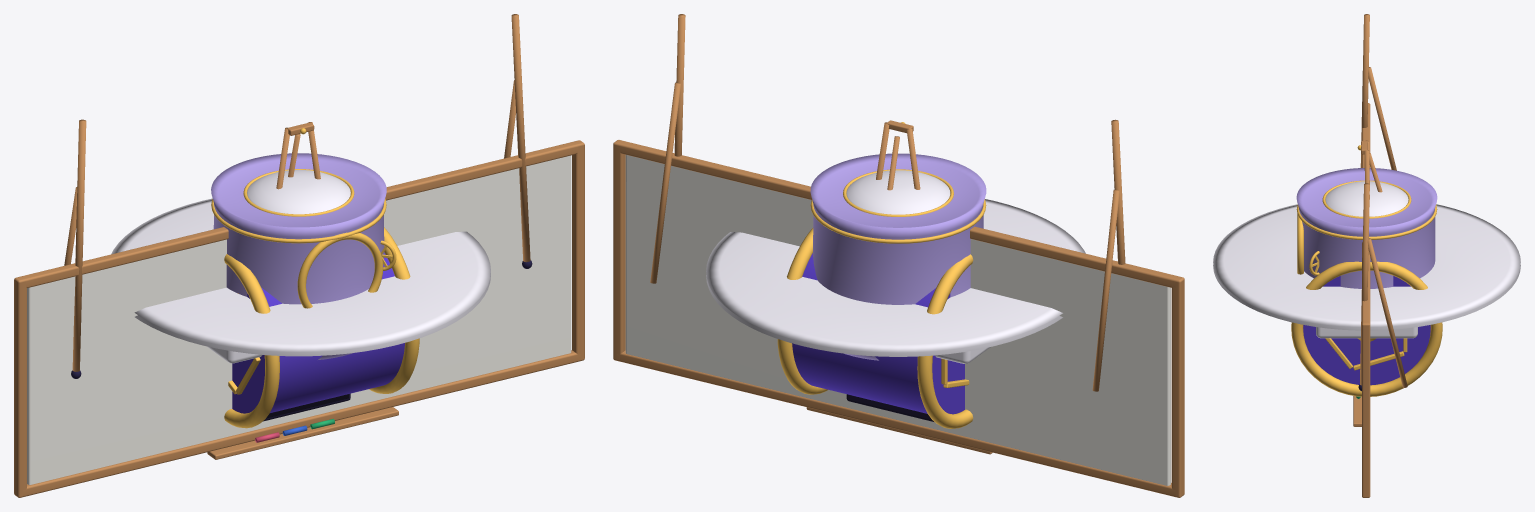
Rendered from props.glb.
3 views of the same model, side by side, from view 1: azimuth 30°, elevation 25°; view 2: azimuth 150°, elevation 25°; view 3: azimuth 270°, elevation 25° (orthographic). The views are drawn at different scales.
Parts seen in each view (by area): view 1: prop_board_face, prop_round_table_top, prop_vault_drum, drum_spin_body, prop_board_frame_b, prop_board_frame_t, prop_collector_cap, prop_board_frame_l, prop_board_frame_r, drum_spin_reel.001, prop_storyboard_legs_leg, prop_storyboard_legs_leg.001 (+5 smaller); view 2: prop_board_face, prop_round_table_top, prop_vault_drum, drum_spin_body, prop_board_frame_b, prop_board_frame_t, prop_collector_cap, prop_board_frame_l, prop_board_frame_r, drum_spin_reel.001, drum_spin_reel, prop_storyboard_legs_strut.001 (+5 smaller); view 3: prop_round_table_top, prop_vault_drum, drum_spin_body, drum_spin_reel, prop_collector_cap, prop_board_frame_r, prop_storyboard_legs_leg.001, prop_drum_base_plinth, prop_storyboard_legs_strut, prop_storyboard_legs_leg, prop_board_frame_t, prop_vault_band_hi (+3 smaller).
Boxes of the visible parts, x1=… form: prop_board_face: x1=27, y1=155, x2=571, y2=484; prop_round_table_top: x1=111, y1=198, x2=490, y2=356; prop_vault_drum: x1=211, y1=153, x2=386, y2=359; drum_spin_body: x1=232, y1=253, x2=404, y2=413; prop_board_frame_b: x1=23, y1=350, x2=580, y2=496; prop_board_frame_t: x1=19, y1=141, x2=580, y2=287; prop_collector_cap: x1=247, y1=170, x2=350, y2=214; prop_board_frame_l: x1=14, y1=277, x2=26, y2=497; prop_board_frame_r: x1=572, y1=140, x2=584, y2=360; drum_spin_reel.001: x1=224, y1=254, x2=279, y2=428; prop_storyboard_legs_leg: x1=72, y1=119, x2=86, y2=371; prop_storyboard_legs_leg.001: x1=511, y1=14, x2=530, y2=262; prop_board_face: x1=625, y1=155, x2=1170, y2=485; prop_round_table_top: x1=706, y1=199, x2=1085, y2=356; prop_vault_drum: x1=810, y1=153, x2=986, y2=360; drum_spin_body: x1=792, y1=253, x2=964, y2=414; prop_board_frame_b: x1=617, y1=350, x2=1175, y2=497; prop_board_frame_t: x1=617, y1=140, x2=1179, y2=287; prop_collector_cap: x1=846, y1=170, x2=950, y2=214; prop_board_frame_l: x1=1171, y1=276, x2=1184, y2=497; prop_board_frame_r: x1=613, y1=140, x2=625, y2=360; drum_spin_reel.001: x1=917, y1=254, x2=973, y2=428; drum_spin_reel: x1=777, y1=228, x2=828, y2=394; prop_storyboard_legs_strut.001: x1=1092, y1=189, x2=1119, y2=391; prop_round_table_top: x1=1213, y1=204, x2=1520, y2=330; prop_vault_drum: x1=1296, y1=168, x2=1437, y2=288; drum_spin_body: x1=1303, y1=276, x2=1430, y2=385; drum_spin_reel: x1=1291, y1=261, x2=1442, y2=396; prop_collector_cap: x1=1325, y1=181, x2=1408, y2=216; prop_board_frame_r: x1=1362, y1=321, x2=1370, y2=497; prop_storyboard_legs_leg.001: x1=1360, y1=183, x2=1369, y2=385; prop_drum_base_plinth: x1=1316, y1=327, x2=1417, y2=338; prop_storyboard_legs_strut: x1=1367, y1=238, x2=1407, y2=387; prop_storyboard_legs_leg: x1=1360, y1=14, x2=1369, y2=167; prop_board_frame_t: x1=1362, y1=104, x2=1370, y2=322; prop_vault_band_hi: x1=1296, y1=204, x2=1437, y2=239.
Size of the model in its own units: 6.16 by 3.78 by 3.61.
